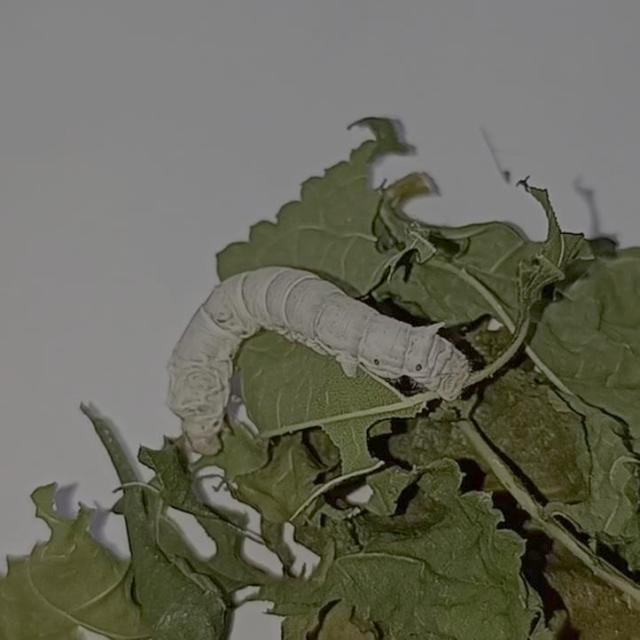Healthy: (147, 250, 484, 468)
